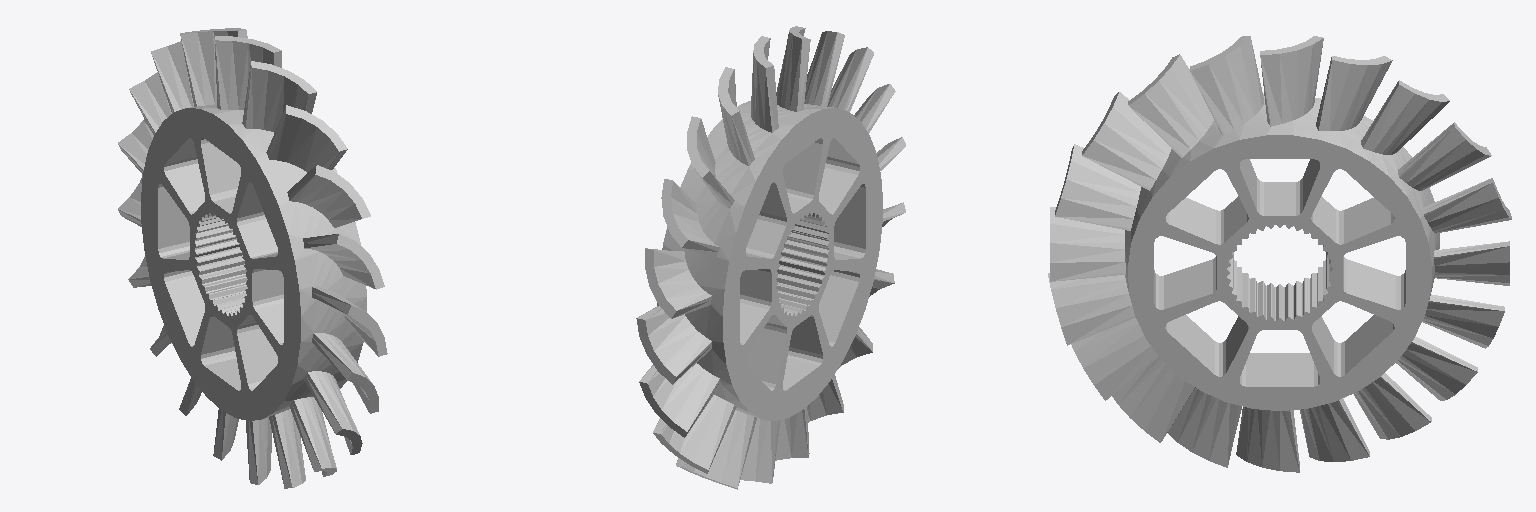
The model's file is Kompressor 02.obj.
The picture shows the model from 3 angles: view 1: azimuth 30°, elevation 25°; view 2: azimuth 150°, elevation 25°; view 3: azimuth 270°, elevation 25°; orthographic projection.
Visible parts, largest first — view 1: Компрессор_№02; view 2: Компрессор_№02; view 3: Компрессор_№02.
Boxes of the visible parts, box(x1,y1,x2,y2) form: Компрессор_№02: box(118, 28, 387, 488); Компрессор_№02: box(636, 26, 905, 489); Компрессор_№02: box(1048, 36, 1511, 472).
Size of the model in its own units: 11.56 by 66.66 by 66.66.